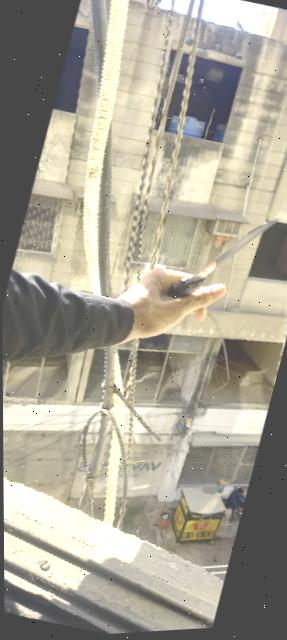long knife: (156, 191, 282, 335)
